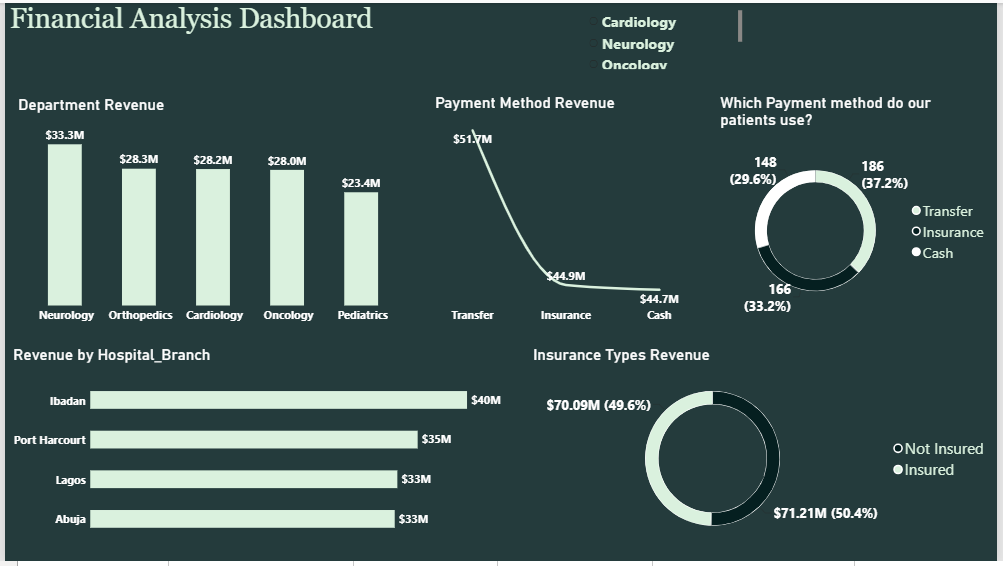

This screenshot's page, from the dashboard's own definition file:
{"tool":"powerbi","page":{"name":"Financial Dasboard","canvas":[1920,1080],"ordinal":2},"visuals":[{"type":"textbox","box":[10,0,728,144],"z":0},{"type":"columnChart","title":"Department Revenue","fields":{"Category":["HealthcareData.Department"],"Y":["Sum(HealthcareData.Revenue)"]},"box":[10,164,792,474],"z":1000},{"type":"clusteredBarChart","title":" Revenue by Hospital_Branch","fields":{"Category":["HealthcareData.Hospital_Branch"],"Y":["Sum(HealthcareData.Revenue)"]},"box":[0,648,992,418],"z":2000},{"type":"lineChart","title":"Payment Method Revenue","fields":{"Category":["HealthcareData.Payment_Method"],"Y":["Sum(HealthcareData.Revenue)"]},"box":[816,160,538,478],"z":3000},{"type":"donutChart","title":"Which Payment method do our patients use?","fields":{"Category":["HealthcareData.Payment_Method"],"Y":["CountNonNull(HealthcareData.Patient_ID)"]},"box":[1368,160,552,478],"z":4000},{"type":"donutChart","title":"Insurance Types Revenue","fields":{"Category":["HealthcareData.Insurance_Status"],"Y":["Sum(HealthcareData.Revenue)"]},"box":[1006,648,914,418],"z":5000},{"type":"listSlicer","fields":{"Values":["HealthcareData.Department"]},"box":[1114,0,328,144],"z":6000}]}

Visuals, with their boxes in screenshot pixels (x1, y1, x2, y2), scaled from the page's 1920x1080 canvas onto the 1003x566 screenshot:
textbox: 5:0:386:75
"Department Revenue" columnChart: 5:86:419:334
" Revenue by Hospital_Branch" clusteredBarChart: 0:340:518:559
"Payment Method Revenue" lineChart: 426:84:707:334
"Which Payment method do our patients use?" donutChart: 715:84:1002:334
"Insurance Types Revenue" donutChart: 526:340:1002:559
listSlicer - HealthcareData.Department: 582:0:753:75
